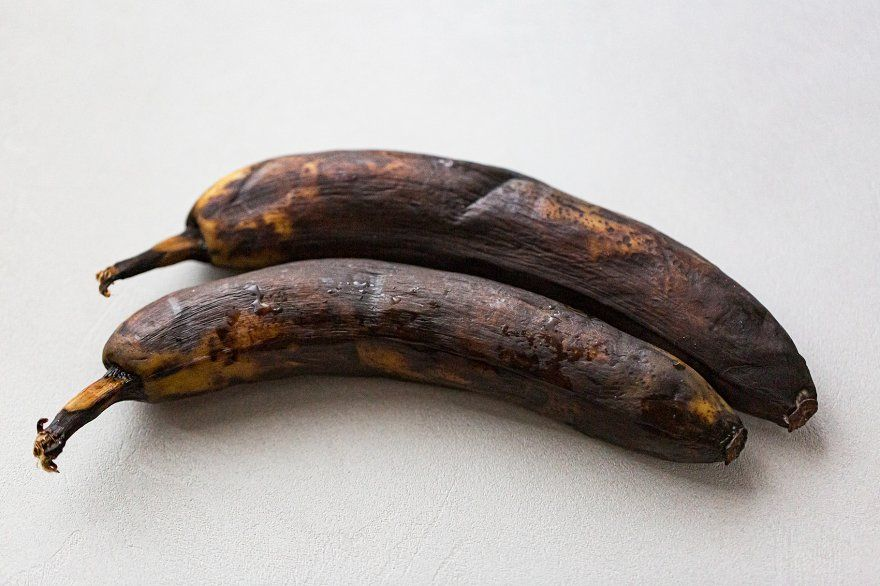rotten_banana: (95, 150, 817, 430), (27, 259, 750, 474)
